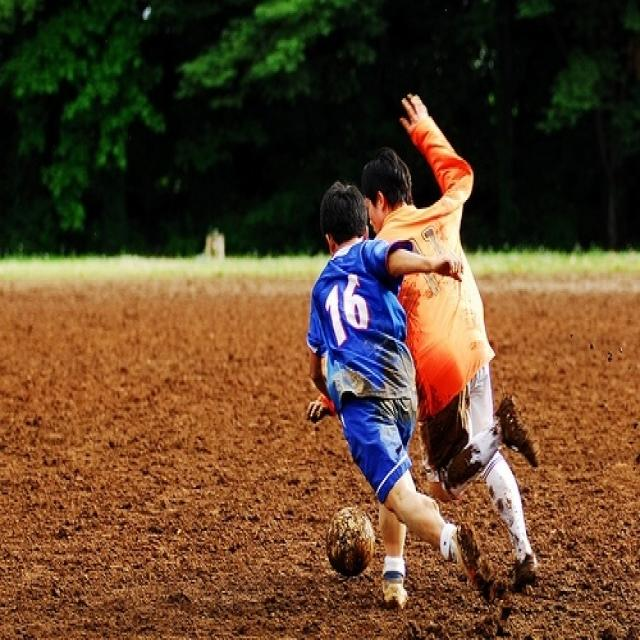Ball: (326, 507, 375, 574)
